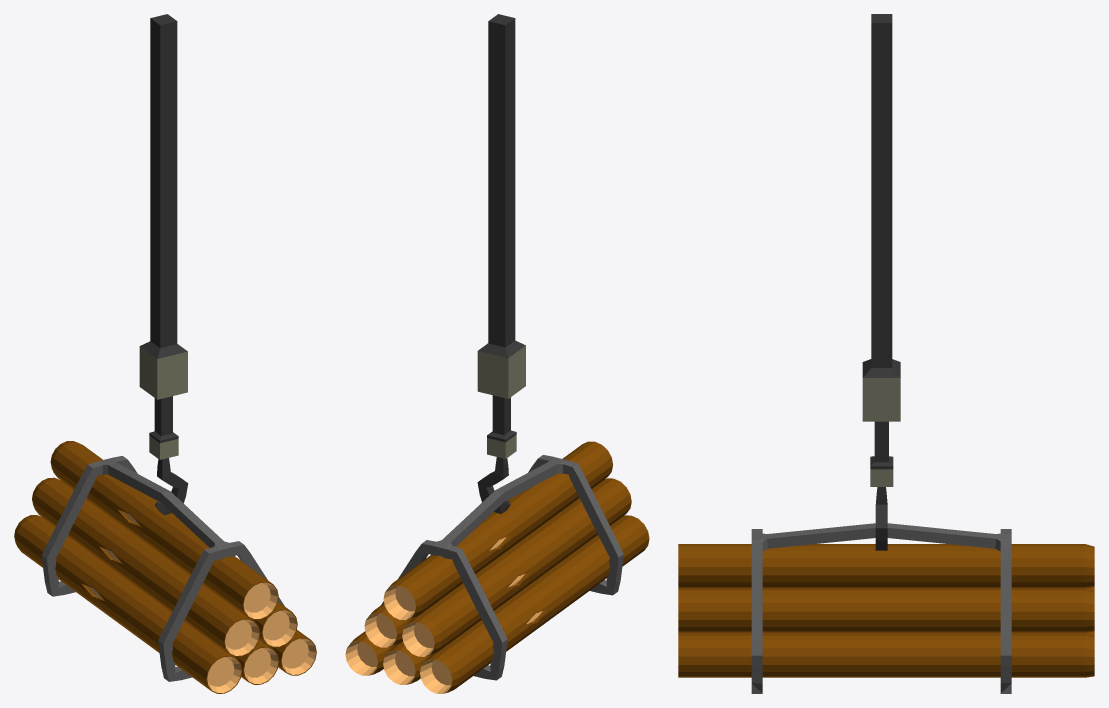
Rendered from new loply logs.fbx.
3 views of the same model, side by side, from view 1: azimuth 30°, elevation 25°; view 2: azimuth 150°, elevation 25°; view 3: azimuth 270°, elevation 25° (orthographic). The views are drawn at different scales.
Parts seen in each view (by area): view 1: Cube.001, Cylinder.003, Cylinder, Cylinder.005, Cube, Cylinder.002, Cylinder.004, Cylinder.001; view 2: Cube.001, Cylinder.003, Cylinder, Cylinder.005, Cube, Cylinder.002, Cylinder.004, Cylinder.001; view 3: Cylinder.002, Cylinder.004, Cylinder.005, Cube.001, Cube, Cylinder.001.
Part boxes in pixels (box(x1,y1,x2,y2)): Cube.001: box(139, 14, 188, 515); Cylinder.003: box(32, 477, 259, 656); Cylinder: box(14, 515, 242, 693); Cylinder.005: box(50, 441, 278, 619); Cube: box(41, 456, 284, 681); Cylinder.002: box(270, 630, 316, 675); Cylinder.004: box(252, 602, 297, 647); Cylinder.001: box(235, 639, 278, 684); Cube.001: box(477, 14, 525, 513); Cylinder.003: box(402, 478, 631, 656); Cylinder: box(420, 515, 649, 693); Cylinder.005: box(383, 441, 612, 619); Cube: box(381, 455, 623, 680); Cylinder.002: box(345, 631, 395, 675); Cylinder.004: box(364, 603, 413, 647); Cylinder.001: box(383, 641, 430, 684); Cylinder.002: box(678, 633, 1094, 677); Cylinder.004: box(678, 588, 1094, 632); Cylinder.005: box(678, 544, 1094, 588); Cube.001: box(862, 14, 900, 550); Cube: box(751, 523, 1011, 693); Cylinder.001: box(678, 631, 1094, 635).
Size of the model in its own units: 699 by 3212 by 1874.
